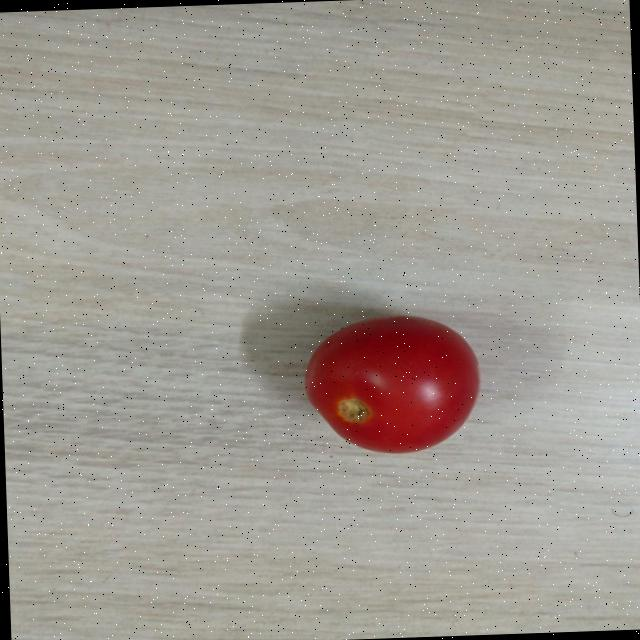Tomato: (299, 310, 484, 456)
